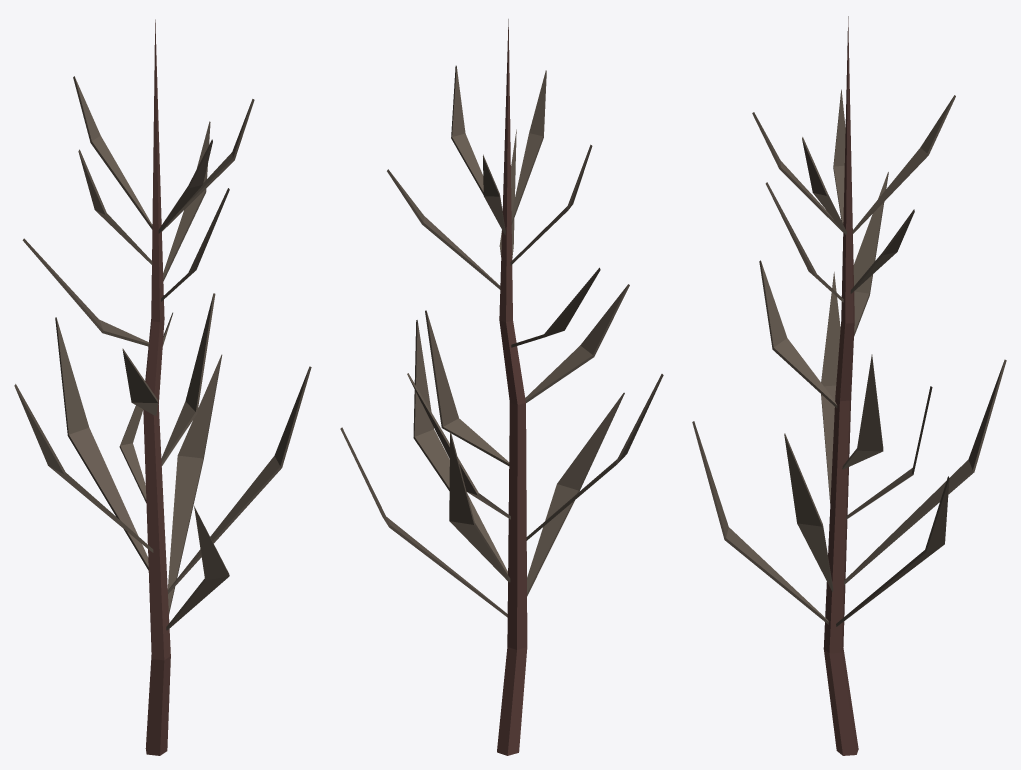
Rendered from Plant_2.gltf.
3 renders of one model, left to right at view 1: azimuth 30°, elevation 25°; view 2: azimuth 150°, elevation 25°; view 3: azimuth 270°, elevation 25°, orthographic.
Visible parts, largest first — view 1: Plant_2; view 2: Plant_2; view 3: Plant_2.
Part boxes in pixels (x1,y1,x2,y2): Plant_2: (14, 19, 311, 755); Plant_2: (340, 19, 663, 755); Plant_2: (692, 16, 1006, 755).
Bounding box in the file's own units: 0.6859 × 1.77 × 0.6859.
